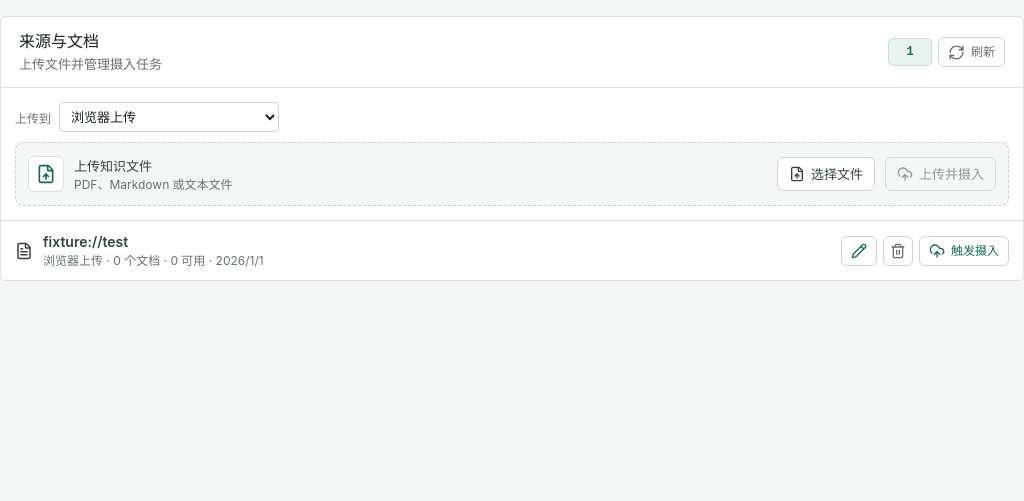
Test case: SourcesPanel task controls › converges after a cancellation race without showing conflict
Click the button "触发摄入" at (964, 250), box [919,236,1009,266]
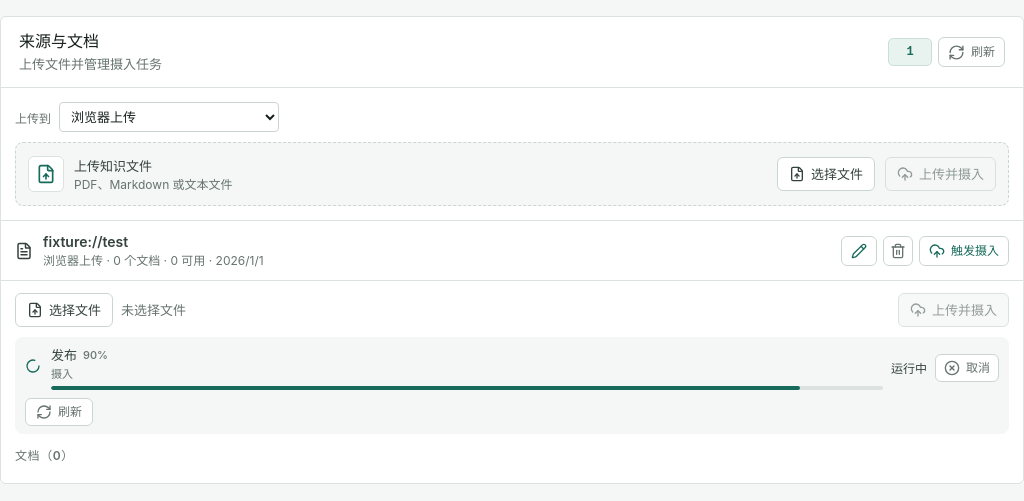
Click the button with aria-label "取消任务" at (967, 368), box [935,354,999,382]
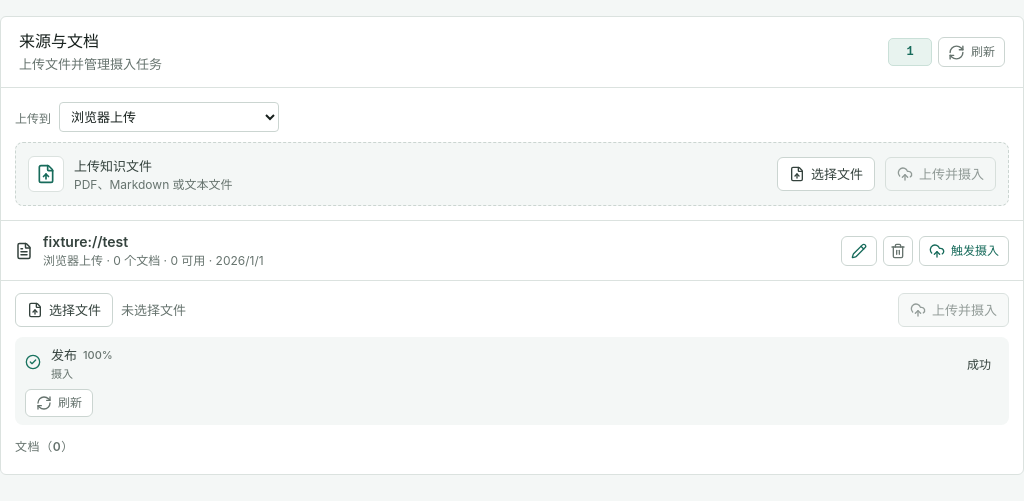
Expected: the text "成功" is shown, [967,354,991,372]
